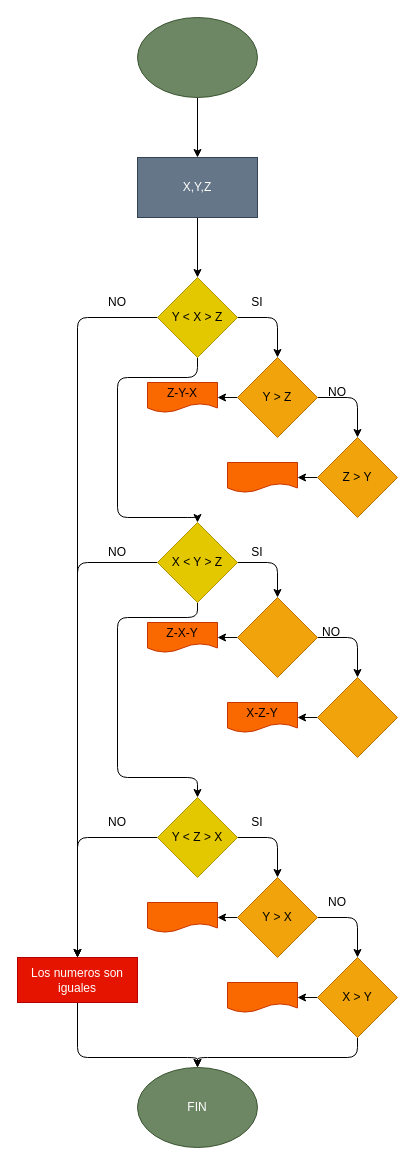
The diagram is 415 pixels wide and 1165 high, and some of its shapes have lost their labels. The shapes that lost their labels are listed below. From the top down, each one's box as (x1, y1, x2, y2) in pixels, then its label:
(136, 16, 258, 98): INICIO
(226, 462, 298, 492): Y-Z-X
(236, 596, 318, 678): X > Z
(316, 676, 398, 758): Z > X
(146, 902, 218, 932): X-Y-Z
(226, 982, 298, 1012): Y-X-Z
